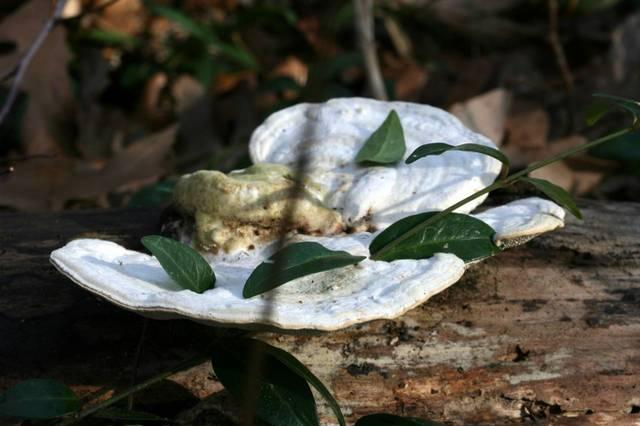poisonous_mushroom: (46, 95, 562, 319)
